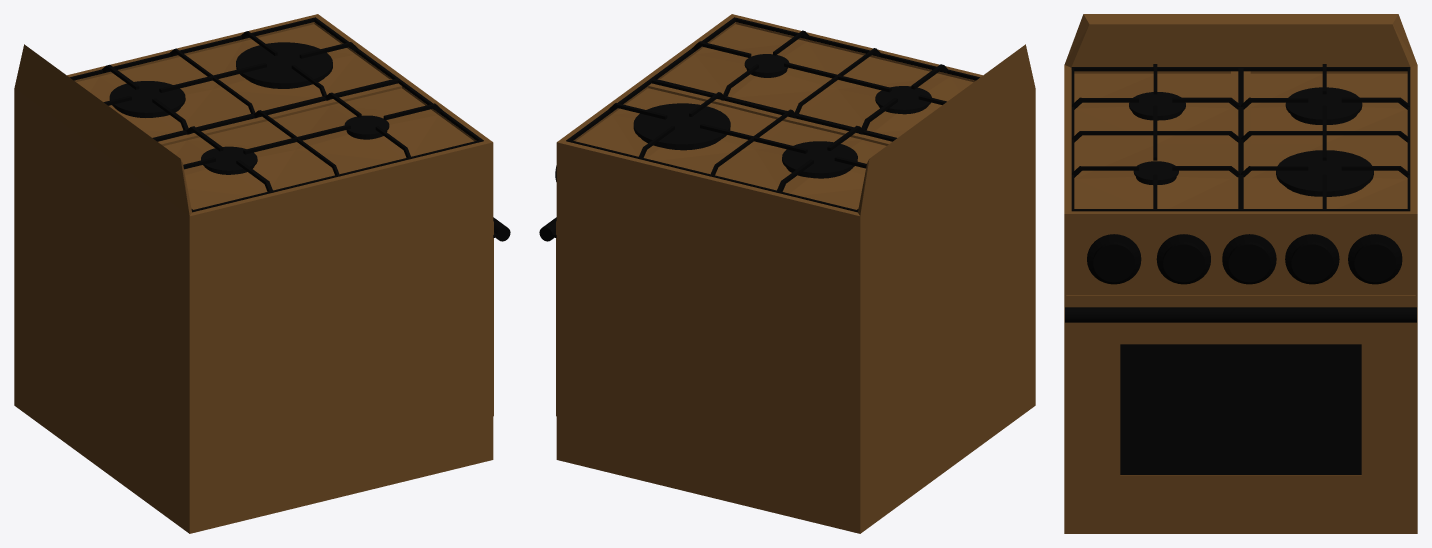
The model's file is plyta.obj.
3 renders of one model, left to right at view 1: azimuth 30°, elevation 25°; view 2: azimuth 150°, elevation 25°; view 3: azimuth 270°, elevation 25°, orthographic.
Visible parts, largest first — view 1: Cube, Cube3, Cube2, Cyl6, Cyl7, Cyl8, Cyl9; view 2: Cube, Cube2, Cube3, Cyl6, Cyl7, Cyl8, Cyl9; view 3: Cube, Cube0, Cube1, Cyl0, Cube2, Cube3, Cyl6, Cyl3, Cyl2, Cyl1, Cyl5, Cyl4 (+3 smaller).
Part boxes in pixels (x1,y1,x2,y2): Cube: (14, 14, 493, 533); Cube3: (154, 79, 483, 212); Cube2: (70, 17, 399, 138); Cyl6: (236, 42, 332, 88); Cyl7: (109, 81, 185, 117); Cyl8: (201, 146, 257, 174); Cyl9: (344, 115, 389, 139); Cube: (556, 14, 1035, 533); Cube2: (566, 79, 895, 212); Cube3: (650, 17, 979, 138); Cyl6: (633, 103, 730, 150); Cyl7: (782, 141, 857, 178); Cyl8: (875, 86, 931, 114); Cyl9: (744, 54, 789, 77); Cube: (1064, 14, 1417, 533); Cube0: (1066, 295, 1415, 491); Cube1: (1120, 344, 1361, 474); Cyl0: (1065, 307, 1416, 322); Cube2: (1241, 64, 1410, 211); Cube3: (1071, 64, 1240, 211); Cyl6: (1276, 150, 1373, 196); Cyl3: (1222, 234, 1276, 284); Cyl2: (1285, 234, 1339, 284); Cyl1: (1348, 234, 1402, 284); Cyl5: (1087, 234, 1141, 284); Cyl4: (1156, 234, 1210, 284).
Bounding box in the file's own units: 0.9535 × 1.05 × 0.9014.
